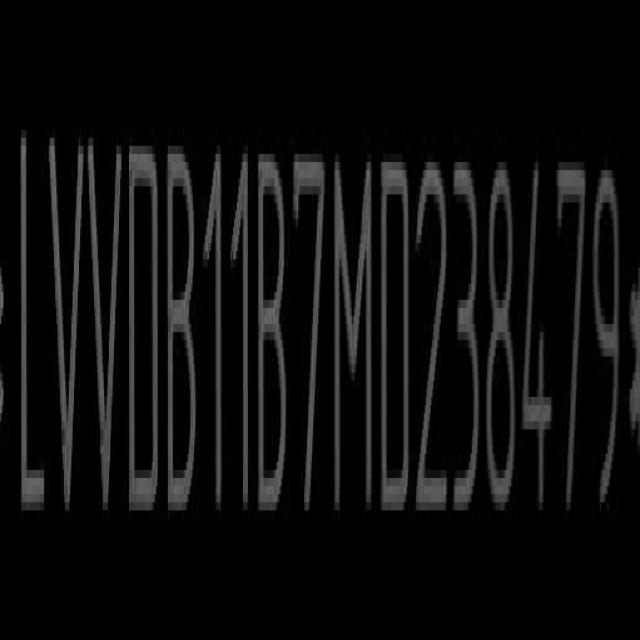1: (206, 143, 228, 521), (230, 144, 250, 519)
2: (416, 153, 449, 523)
3: (454, 157, 483, 520)
4: (524, 156, 555, 521)
7: (295, 149, 330, 519), (557, 153, 586, 520)
8: (486, 160, 516, 519)
9: (594, 164, 622, 519)
B: (166, 142, 200, 519), (257, 147, 289, 518)
D: (131, 133, 163, 518), (383, 150, 416, 520)
L: (18, 131, 47, 533)
M: (336, 150, 376, 520)
V: (88, 134, 127, 526), (46, 132, 82, 528)
